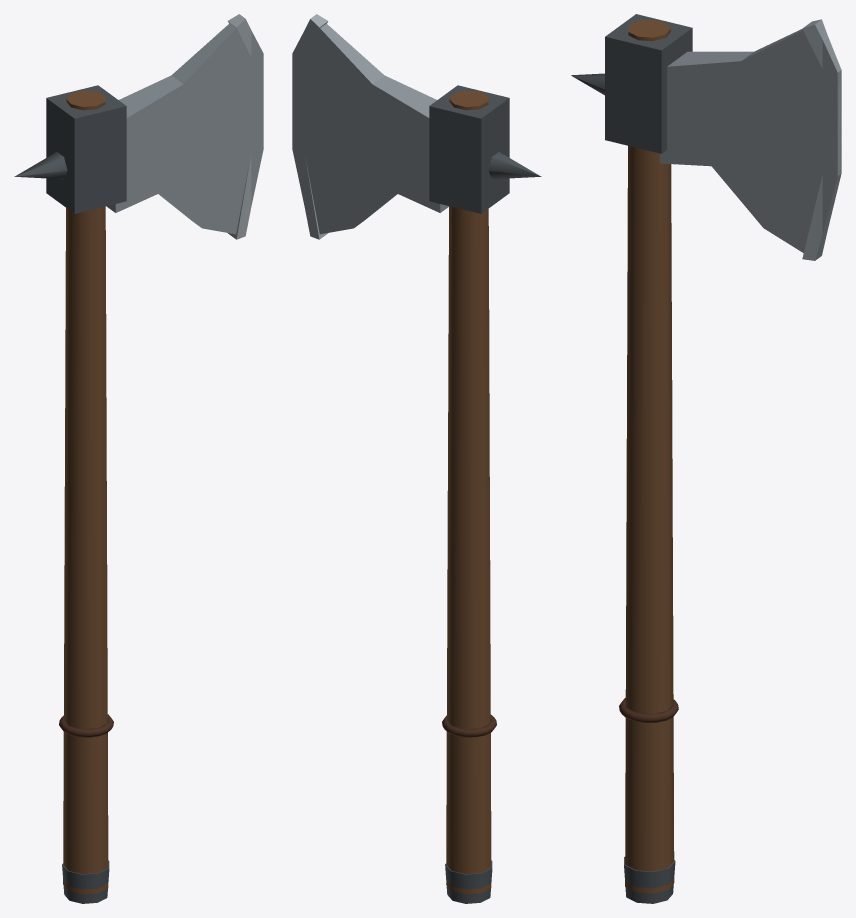
The model's file is battleaxe.glb.
3 views of the same model, side by side, from view 1: azimuth 30°, elevation 25°; view 2: azimuth 150°, elevation 25°; view 3: azimuth 330°, elevation 25° (orthographic). The views are drawn at different scales.
Visible parts, largest first — view 1: battleaxe-haft, battleaxe-blade, battleaxe-eye, battleaxe-butt, battleaxe-cutting-edge, battleaxe-back-spike, battleaxe-grip-wrap; view 2: battleaxe-haft, battleaxe-blade, battleaxe-eye, battleaxe-butt, battleaxe-cutting-edge, battleaxe-back-spike, battleaxe-grip-wrap; view 3: battleaxe-haft, battleaxe-blade, battleaxe-eye, battleaxe-cutting-edge, battleaxe-butt, battleaxe-grip-wrap.
Boxes of the visible parts, left/top/right/bottom form: battleaxe-haft: left=63, top=90, right=108, bottom=894; battleaxe-blade: left=107, top=23, right=263, bottom=234; battleaxe-eye: left=46, top=85, right=126, bottom=213; battleaxe-butt: left=62, top=860, right=109, bottom=903; battleaxe-cutting-edge: left=227, top=14, right=251, bottom=239; battleaxe-back-spike: left=14, top=152, right=67, bottom=179; battleaxe-grip-wrap: left=59, top=714, right=113, bottom=737; battleaxe-haft: left=446, top=90, right=491, bottom=894; battleaxe-blade: left=292, top=23, right=448, bottom=234; battleaxe-eye: left=429, top=85, right=509, bottom=213; battleaxe-butt: left=445, top=860, right=492, bottom=903; battleaxe-cutting-edge: left=304, top=14, right=328, bottom=239; battleaxe-back-spike: left=488, top=152, right=541, bottom=179; battleaxe-grip-wrap: left=442, top=714, right=496, bottom=737; battleaxe-haft: left=625, top=19, right=674, bottom=893; battleaxe-blade: left=659, top=20, right=841, bottom=259; battleaxe-eye: left=605, top=14, right=692, bottom=153; battleaxe-cutting-edge: left=802, top=19, right=840, bottom=260; battleaxe-butt: left=624, top=857, right=675, bottom=903; battleaxe-grip-wrap: left=619, top=698, right=678, bottom=723.
Size of the model in its own units: 0.2001 by 0.6487 by 0.0399.
